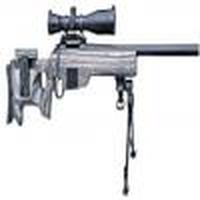gun: (5, 11, 194, 131)
